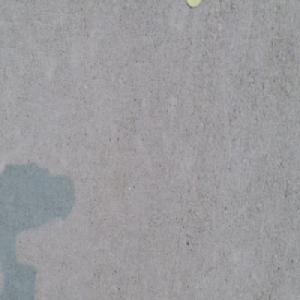Washer: (186, 0, 201, 8)
